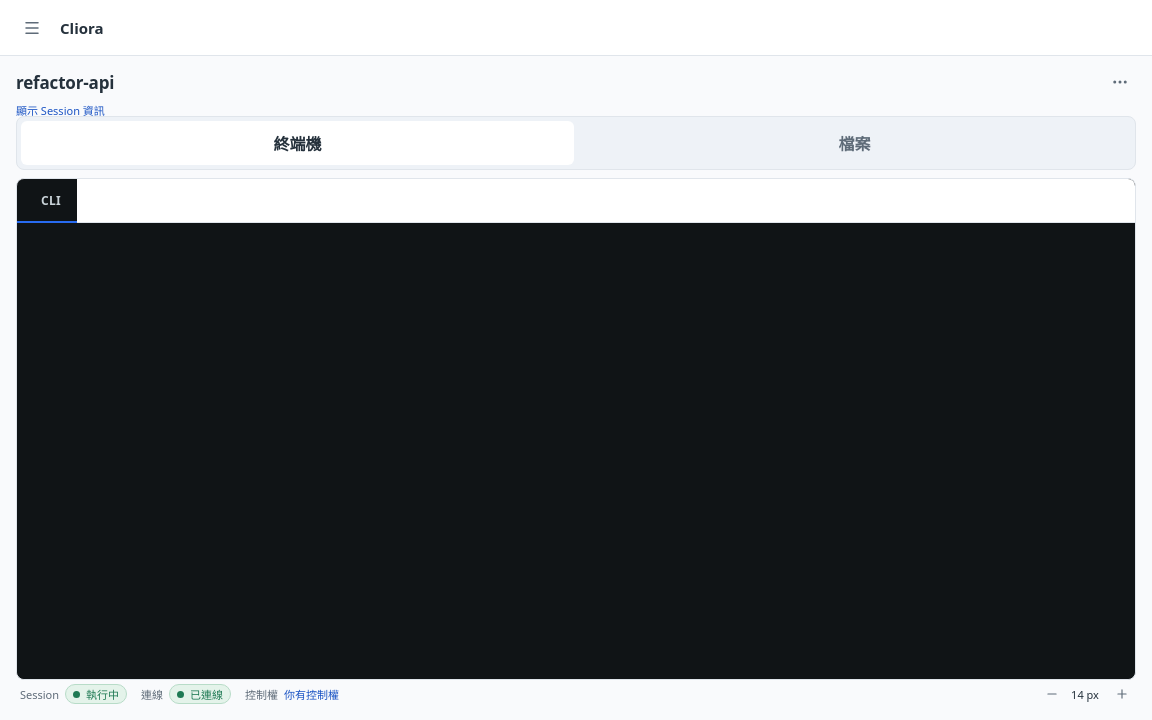
Test case: SessionWorkspaceView — session 在預覽開著時結束（#76） › 手機：讀取進行中就終止，遲到的內容不會出現
The width and height of the screenshot is (1152, 720).
Click the tab "檔案": (854, 143) [578, 121, 1131, 165]
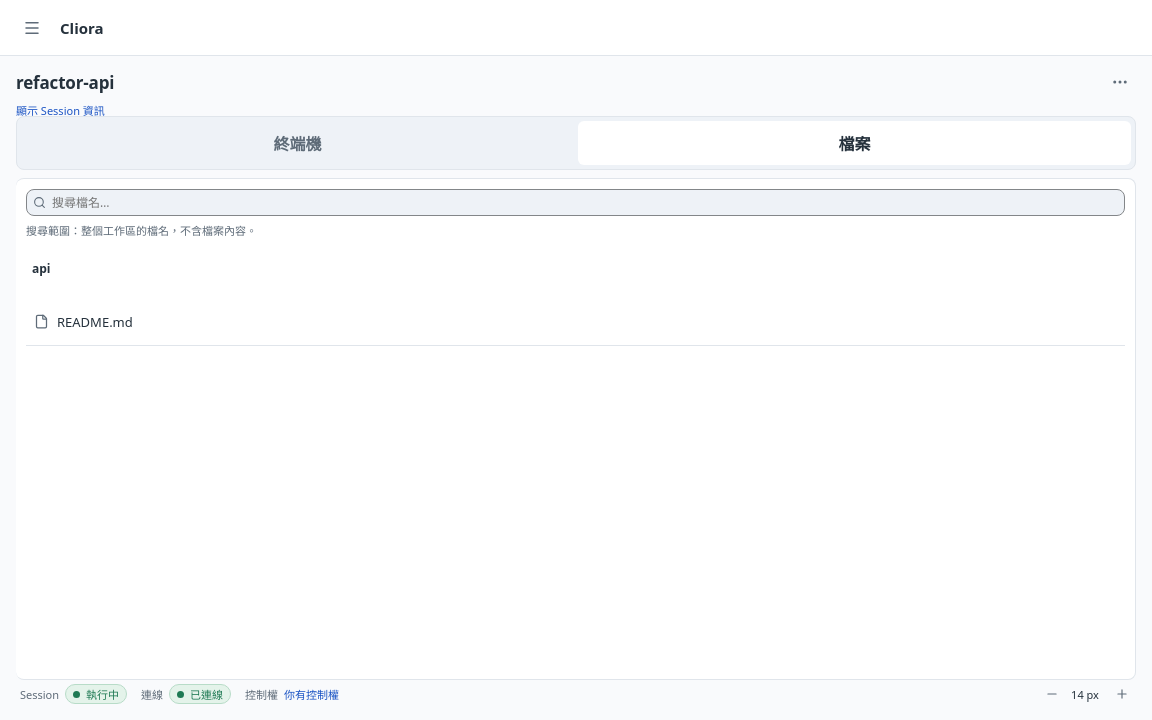
Click the button with class "entry": (95, 322) [26, 298, 1125, 346]
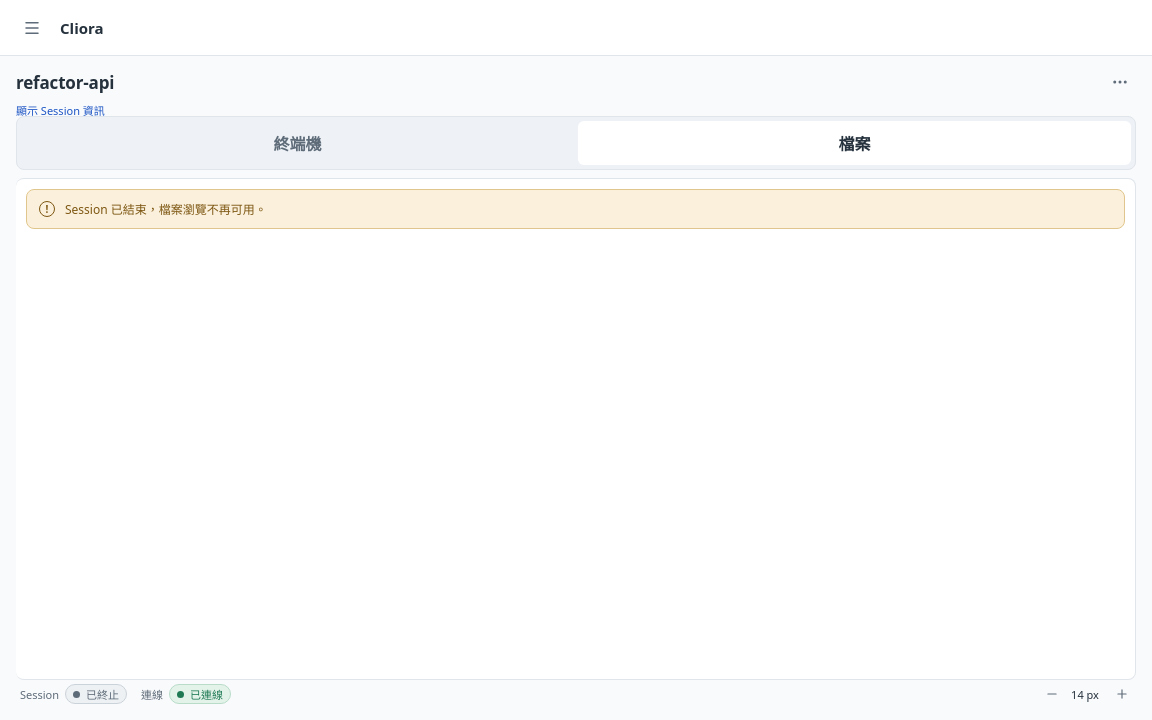
expect the navigation bar with class "modes" is shown: met, box [16, 116, 1136, 170]
expect the element with id "file-panel" shows "Session 已結束": met, box [65, 201, 267, 218]
expect the button "README.md" no longer shows "README.md": met
